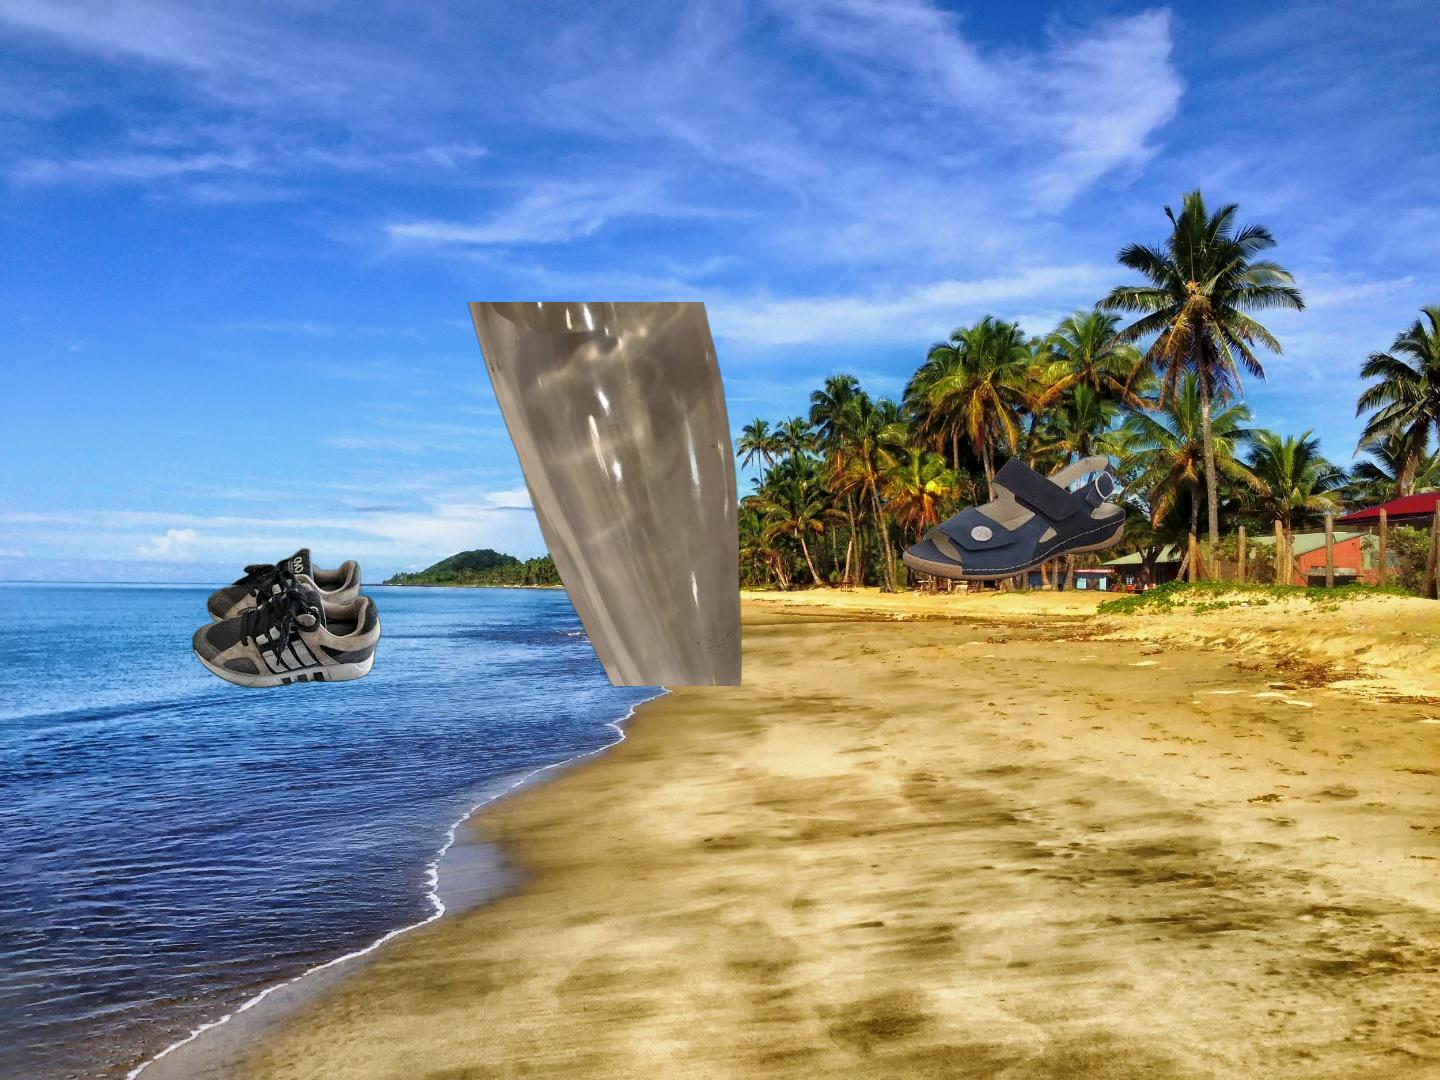glass: (464, 302, 746, 686)
plastic-bottles: (260, 1060, 619, 1080)
shoes: (901, 452, 1126, 584), (190, 546, 386, 690)
